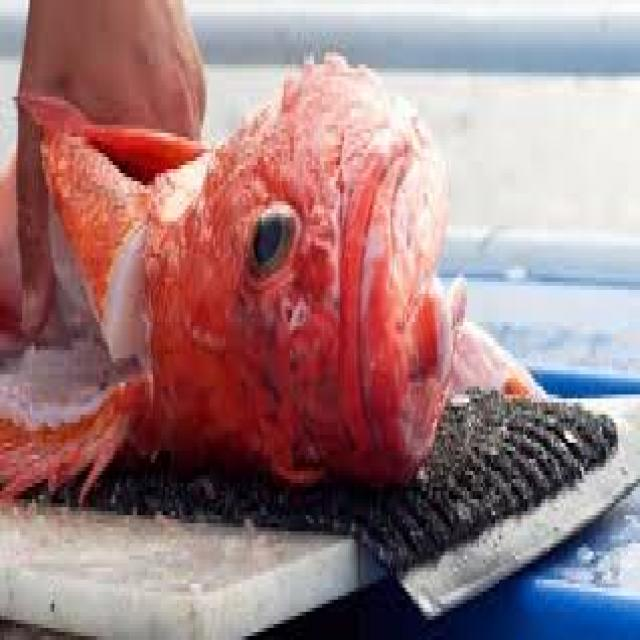northern-red-snapper: (0, 50, 543, 498)
